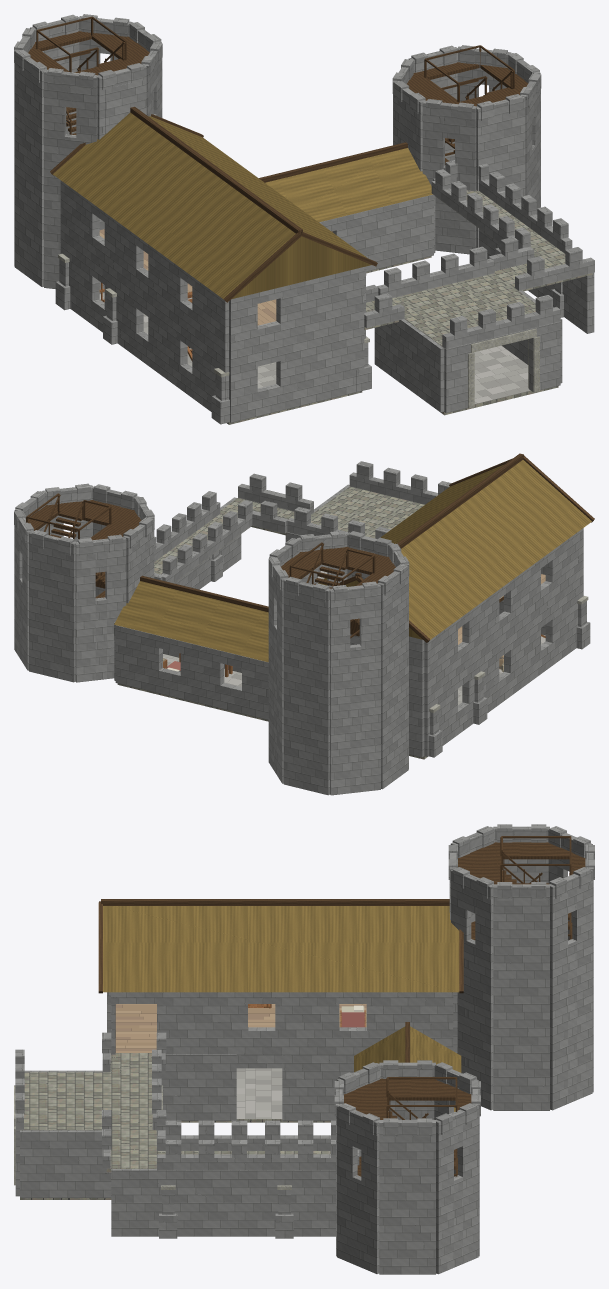
The model's file is keep.glb.
3 renders of one model, top to bottom at view 1: azimuth 30°, elevation 25°; view 2: azimuth 150°, elevation 25°; view 3: azimuth 270°, elevation 25°, orthographic. The views are drawn at different scales.
Parts seen in each view (by area): view 1: Keep_Shell_2_111, Keep_Roof_3_2, Keep_GroundFront_2_36, Keep_Upper_Wallwalk_1_35, Keep_Roof_3_48, Keep_Upper_Floor_2_4.001, Keep_Roof_3_6, Keep_Floor_Flags, Keep_Upper_Tower_Eastturret_Level2_Floor_1_16, Keep_Upper_Tower_Highwatch_Level3_Floor_1_16, Keep_GroundFront_2_6, Keep_Floor_1_5 (+2 smaller); view 2: Keep_Shell_2_111, Keep_Roof_3_2, Keep_Upper_Wallwalk_1_35, Keep_Roof_3_48, Keep_Upper_Floor_2_4.001, Keep_Roof_3_6, Keep_Upper_Tower_Eastturret_Level2_Floor_1_16, Keep_Upper_Tower_Highwatch_Level3_Floor_1_16, Keep_Tower_Highwatch_Level3_Stair_1_34, Keep_Tower_Eastturret_Level2_Stair_1_34, Keep_Floor_Flags; view 3: Keep_Shell_2_111, Keep_Roof_3_2, Keep_Upper_Shell_1_17, Keep_Roof_3_48, Keep_Upper_Wallwalk_1_35, Keep_Upper_Floor_2_4.001, Keep_GroundFront_2_36, Keep_Roof_3_6, Keep_Upper_Tower_Eastturret_Level2_Floor_1_16, Keep_Upper_Tower_Highwatch_Level3_Floor_1_16, Keep_Upper_Floor_Boards, Keep_Floor_Flags.
Part boxes in pixels (x1,y1,x2,y2): Keep_Shell_2_111: (14,31,594,424); Keep_Roof_3_2: (53,112,432,299); Keep_GroundFront_2_36: (229,194,560,422); Keep_Upper_Wallwalk_1_35: (364,160,594,349); Keep_Roof_3_48: (14,14,541,121); Keep_Upper_Floor_2_4.001: (364,190,592,347); Keep_Roof_3_6: (50,106,407,302); Keep_Floor_Flags: (99,293,530,404); Keep_Upper_Tower_Eastturret_Level2_Floor_1_16: (407,45,528,106); Keep_Upper_Tower_Highwatch_Level3_Floor_1_16: (28,16,149,75); Keep_GroundFront_2_6: (468,328,539,408); Keep_Floor_1_5: (227,256,558,424); Keep_Shell_2_111: (14,484,590,795); Keep_Roof_3_2: (114,460,591,662); Keep_Upper_Wallwalk_1_35: (154,461,451,583); Keep_Roof_3_48: (14,483,409,602); Keep_Upper_Floor_2_4.001: (154,486,424,582); Keep_Roof_3_6: (140,453,594,642); Keep_Upper_Tower_Eastturret_Level2_Floor_1_16: (26,493,141,540); Keep_Upper_Tower_Highwatch_Level3_Floor_1_16: (281,542,395,585); Keep_Tower_Highwatch_Level3_Stair_1_34: (306,543,359,633); Keep_Tower_Eastturret_Level2_Stair_1_34: (43,494,105,585); Keep_Floor_Flags: (163,571,545,705); Keep_Shell_2_111: (20,842,593,1274); Keep_Roof_3_2: (103,906,461,1111); Keep_Upper_Shell_1_17: (111,992,453,1054); Keep_Roof_3_48: (334,824,594,1136); Keep_Upper_Wallwalk_1_35: (15,1032,359,1170); Keep_Upper_Floor_2_4.001: (20,1053,330,1172); Keep_GroundFront_2_36: (15,992,355,1196); Keep_Roof_3_6: (98,899,463,1062); Keep_Upper_Tower_Eastturret_Level2_Floor_1_16: (344,1077,471,1119); Keep_Upper_Tower_Highwatch_Level3_Floor_1_16: (458,836,585,884); Keep_Upper_Floor_Boards: (115,1004,366,1052); Keep_Floor_Flags: (236,1068,282,1118).
Size of the model in its own units: 23.71 by 11.32 by 25.48.
Materials: 15 (8 with a texture image).
